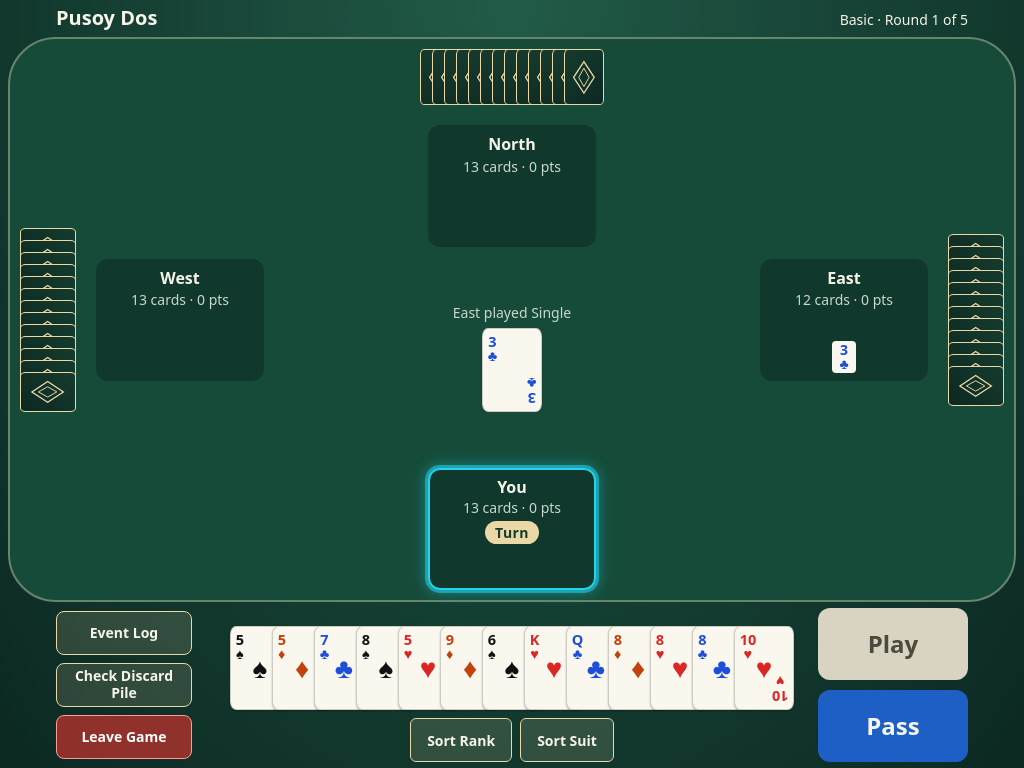
Scenario: Modal overlays block gameplay, including from the keyboard (review fix; ui-ux.md §9.2, §10) › makes the whole table inert while Leave Game is open, and interactive again once it closes
Click the button "Leave Game". click: x=124, y=737
box: [56,715,192,759]
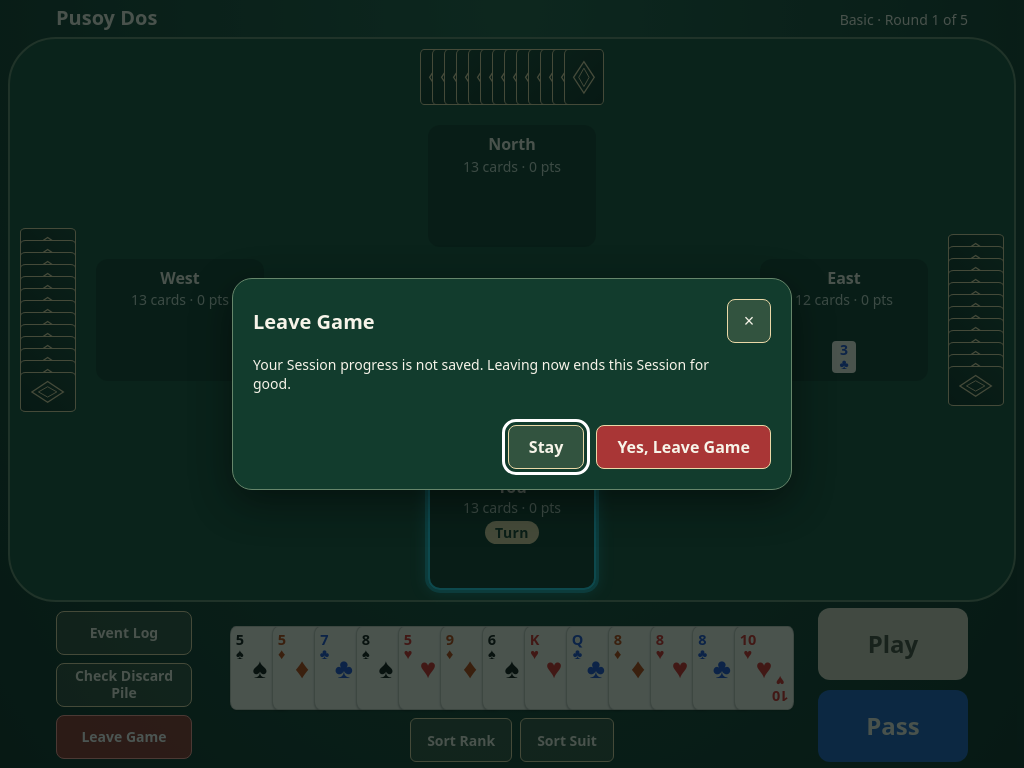
Expected: the dialog "Leave Game" is shown, [232,278,792,490]
Press Escape
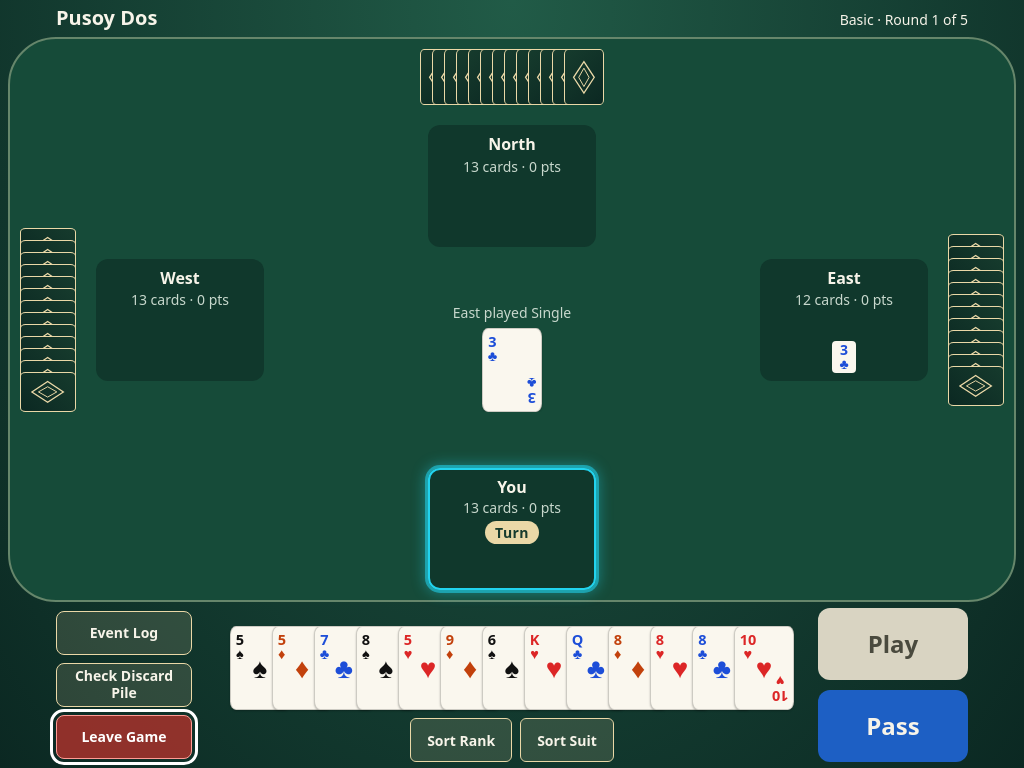
Expected: the dialog is gone
